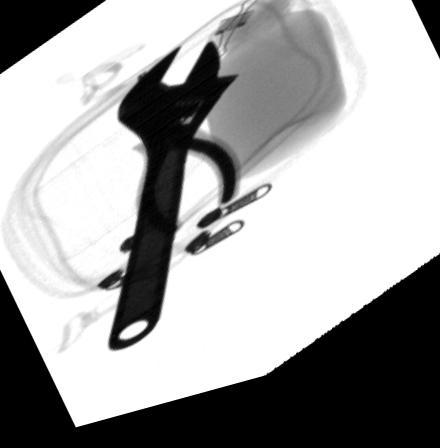Pliers: (135, 77, 237, 249)
Wrench: (108, 47, 241, 357)
